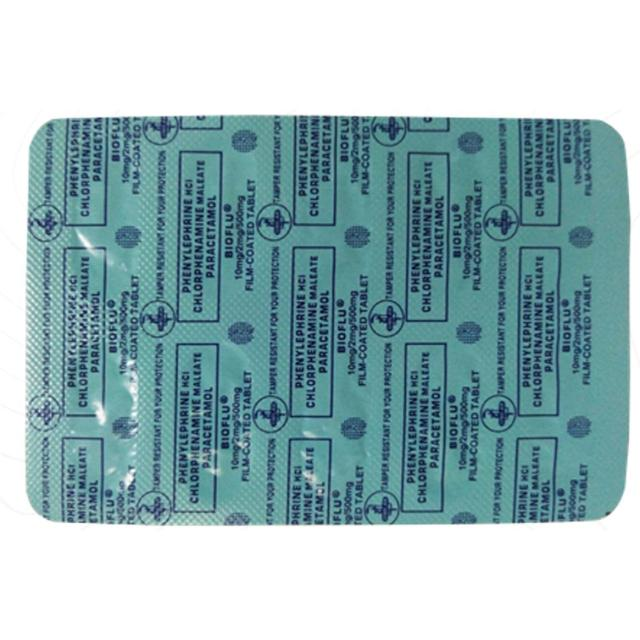blister: (16, 106, 634, 524)
